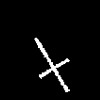single_crochet: (35, 38, 69, 91)
